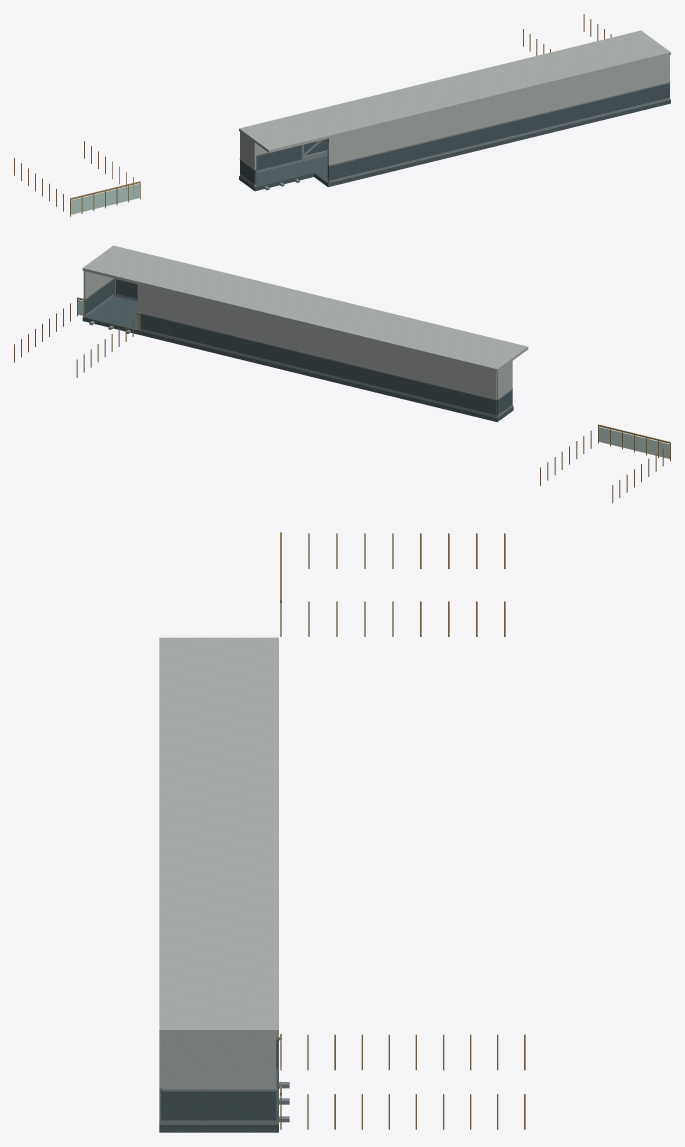
The model's file is FAMILY_D16_STAFF_RECEIVING_r001.glb.
3 renders of one model, top to bottom at view 1: azimuth 30°, elevation 25°; view 2: azimuth 150°, elevation 25°; view 3: azimuth 270°, elevation 25°, orthographic. The views are drawn at different scales.
Visible parts, largest first — view 1: F16_Canopy, F16_Edge0_Enamel, F16_Edge0_Dado, F16_MissingFloor, PATCH_FT_Batch_347, F16_Edge0_Toe, F16_Edge1_Dado, PATCH_FT_Batch_345, F16_Edge0_Reveal, F16_Edge3_Enamel; view 2: F16_Canopy, F16_Edge1_Enamel, F16_Edge1_Dado, F16_MissingFloor, PATCH_FT_Batch_345, PATCH_FT_Batch_347, F16_Edge1_Toe, F16_Edge1_Reveal, F16_Edge2_Enamel, F16_Edge2_Dado, F16_Edge3_Enamel; view 3: F16_Canopy, F16_Edge2_Enamel, F16_Edge2_Dado, PATCH_FT_Batch_345, F16_MissingFloor.
Part boxes in pixels (x1,y1,x2,y2): F16_Canopy: [239, 30, 670, 152]; F16_Edge0_Enamel: [328, 55, 669, 164]; F16_Edge0_Dado: [328, 83, 669, 180]; F16_MissingFloor: [239, 99, 670, 191]; PATCH_FT_Batch_347: [71, 183, 139, 214]; F16_Edge0_Toe: [328, 98, 669, 182]; F16_Edge1_Dado: [256, 139, 327, 170]; PATCH_FT_Batch_345: [14, 14, 611, 216]; F16_Edge0_Reveal: [328, 82, 669, 166]; F16_Edge3_Enamel: [240, 132, 256, 168]; F16_Canopy: [82, 245, 528, 371]; F16_Edge1_Enamel: [137, 284, 496, 399]; F16_Edge1_Dado: [138, 314, 496, 415]; F16_MissingFloor: [82, 296, 513, 422]; PATCH_FT_Batch_345: [14, 297, 670, 503]; PATCH_FT_Batch_347: [77, 300, 669, 458]; F16_Edge1_Toe: [137, 329, 496, 417]; F16_Edge1_Reveal: [140, 312, 496, 400]; F16_Edge2_Enamel: [83, 271, 112, 298]; F16_Edge2_Dado: [84, 280, 113, 314]; F16_Edge3_Enamel: [497, 361, 512, 399]; F16_Canopy: [159, 637, 278, 1035]; F16_Edge2_Enamel: [162, 1035, 276, 1088]; F16_Edge2_Dado: [162, 1091, 276, 1120]; PATCH_FT_Batch_345: [280, 532, 525, 1129]; F16_MissingFloor: [159, 1040, 278, 1132].
Bounding box in the file's own units: 37.78 × 3.22 × 10.41.
Materials: 8 (6 with a texture image).
